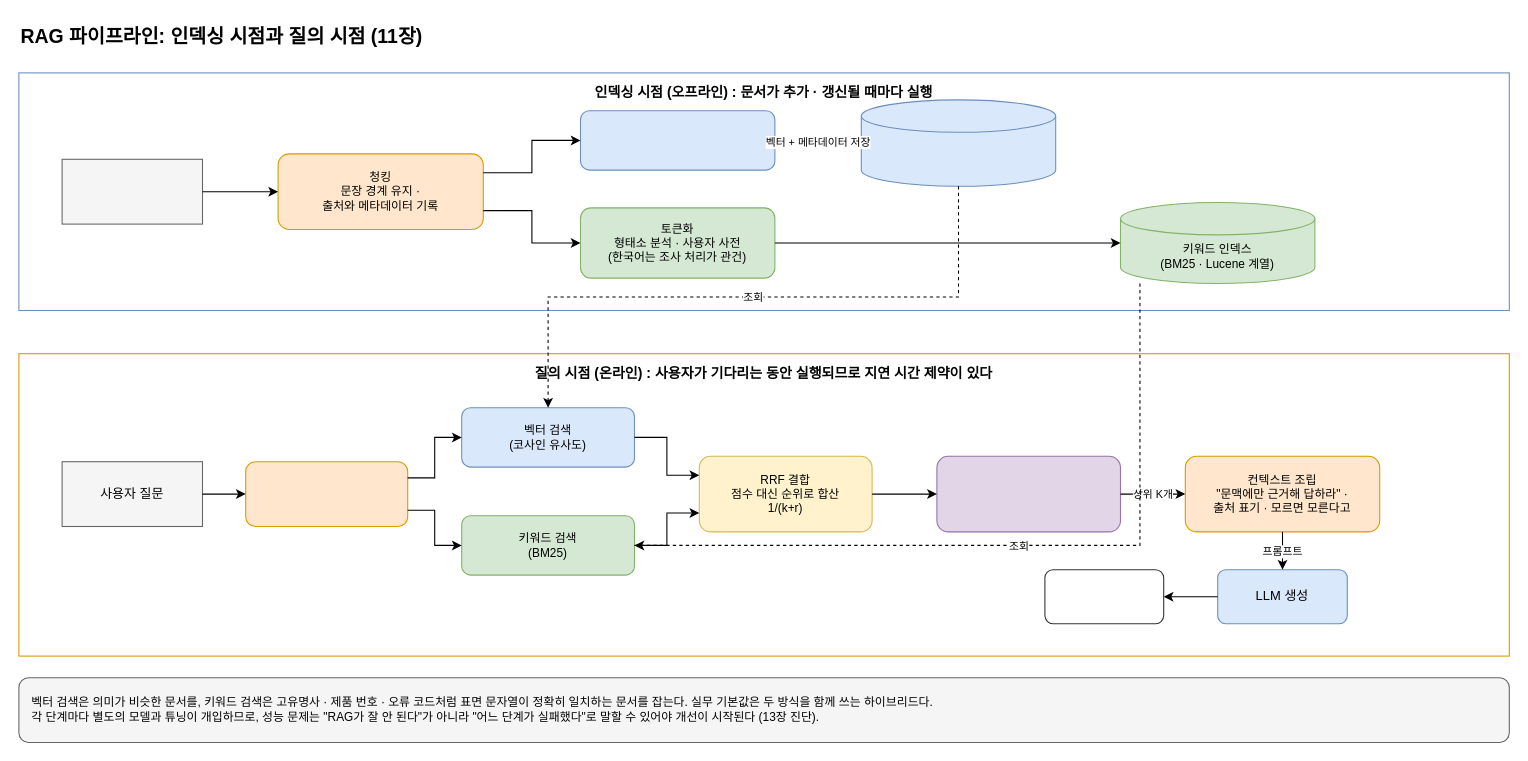
Image size: 1528x761. Some labels were removed from this diagram. The shapes that lost their labels are listed below. From the top down, each one's centre as x and y in pixels, then its label:
the point at 677,140: 임베딩 모델 텍스트 → 밀집 벡터
the point at 958,142: Vector DB ANN 인덱스(HNSW 등) · 메타데이터 필터링
the point at 131,191: 원본 문서
the point at 326,493: 쿼리 재작성 (작은 LLM · HyDE)
the point at 1028,493: 재순위 (rerank) cross-encoder로 상위 후보만 정밀 채점
the point at 1104,596: 응답 (출처 인용)
